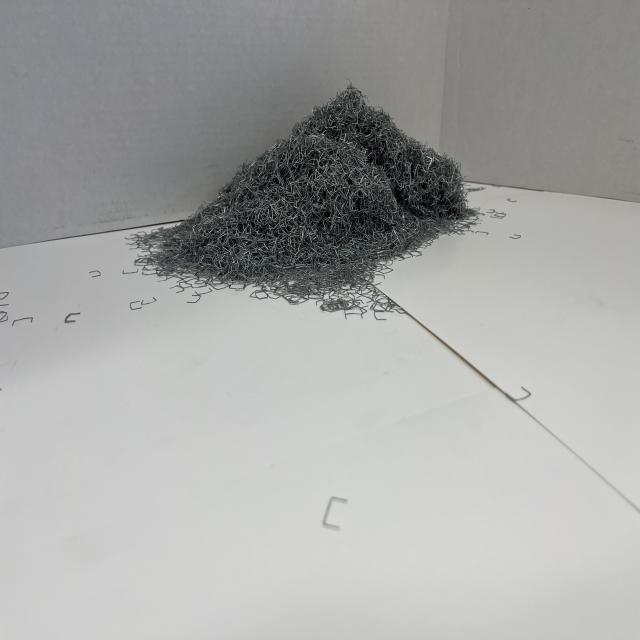staples: (130, 80, 478, 304)
